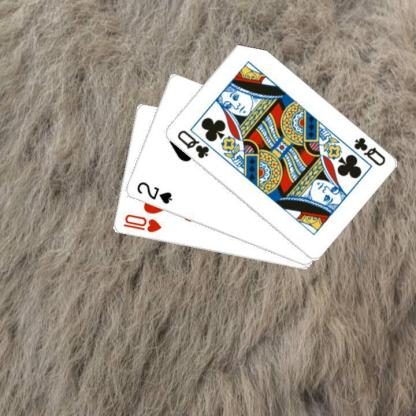10H: (121, 212, 162, 234)
2S: (134, 179, 173, 206)
QC: (174, 127, 210, 160), (350, 134, 386, 167)
